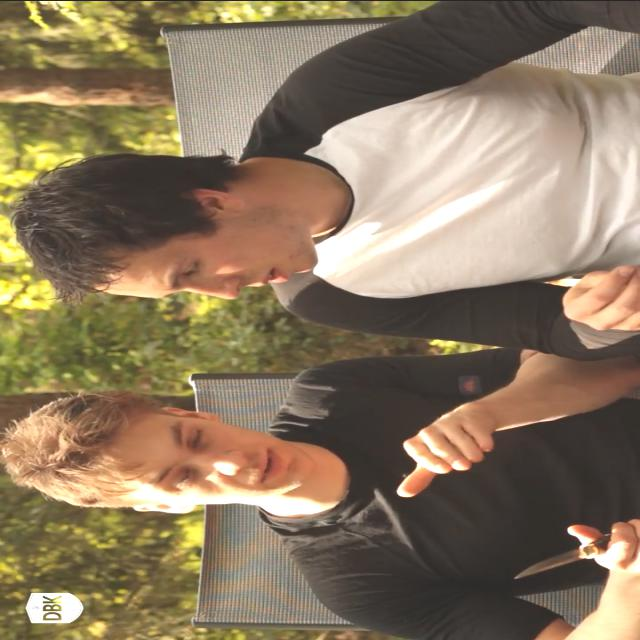knife: (499, 514, 639, 584)
